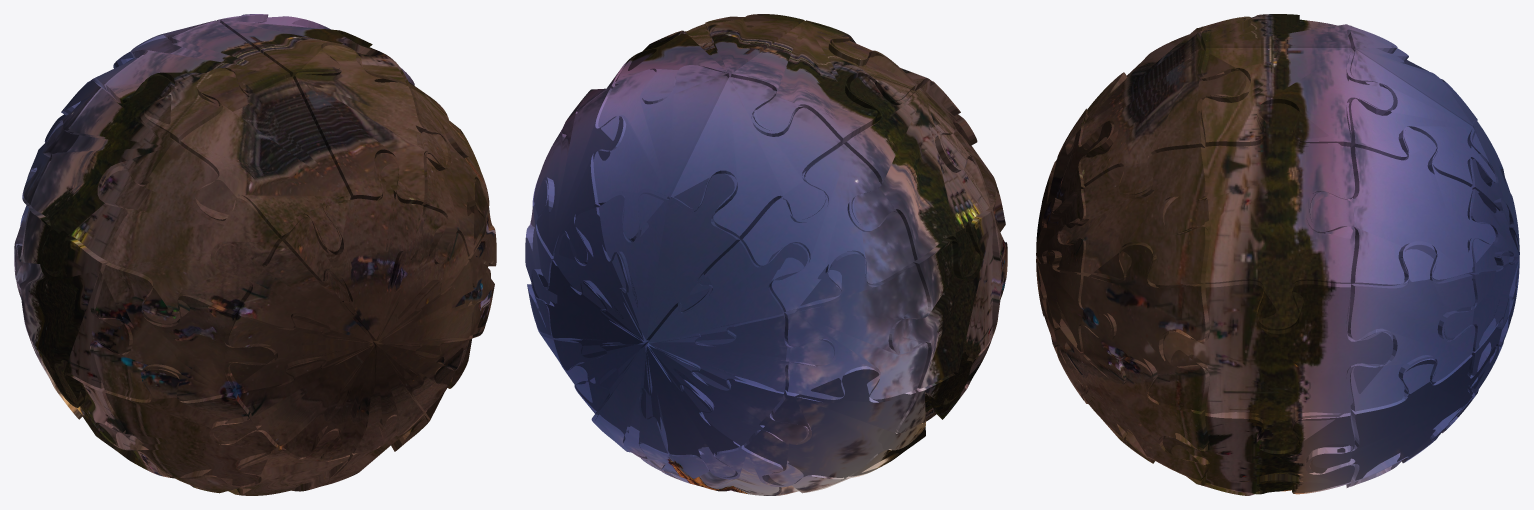
The model's file is easy-puzzle-v14.fbx.
3 views of the same model, side by side, from view 1: azimuth 30°, elevation 25°; view 2: azimuth 150°, elevation 25°; view 3: azimuth 270°, elevation 25° (orthographic).
Visible parts, largest first — view 1: Street View 360 1.013, Street View 360 1.045, Street View 360 1.018, Street View 360 1.042, Street View 360 1.046, Street View 360 1.044, Street View 360 1.035, Street View 360 1.047, Street View 360 1.017, Street View 360 1.043, Street View 360 1.005, Street View 360 1.048 (+8 smaller); view 2: Street View 360 1.025, Street View 360 1.027, Street View 360 1.042, Street View 360 1.028, Street View 360 1.016, Street View 360 1.006, Street View 360 1.035, Street View 360 1.029, Street View 360 1.017, Street View 360 1.034, Street View 360 1.005, Street View 360 1.030 (+7 smaller); view 3: Street View 360 1.041, Street View 360 1.040, Street View 360 1.034, Street View 360 1.043, Street View 360 1.051, Street View 360 1.005, Street View 360 1.033, Street View 360 1.044, Street View 360 1.039, Street View 360 1.013, Street View 360 1.025, Street View 360 1.050 (+7 smaller).
Part boxes in pixels (x1,y1,x2,y2): Street View 360 1.013: (213, 153, 489, 459); Street View 360 1.045: (100, 143, 280, 324); Street View 360 1.018: (180, 70, 350, 254); Street View 360 1.042: (31, 76, 178, 276); Street View 360 1.046: (93, 262, 276, 400); Street View 360 1.044: (293, 45, 448, 205); Street View 360 1.035: (15, 209, 132, 404); Street View 360 1.047: (98, 369, 277, 485); Street View 360 1.017: (106, 20, 290, 143); Street View 360 1.043: (410, 88, 488, 264); Street View 360 1.005: (220, 14, 406, 84); Street View 360 1.048: (177, 428, 357, 495); Street View 360 1.025: (532, 173, 834, 477); Street View 360 1.027: (741, 144, 914, 312); Street View 360 1.042: (843, 76, 990, 276); Street View 360 1.028: (784, 251, 928, 399); Street View 360 1.016: (671, 76, 841, 239); Street View 360 1.006: (593, 68, 728, 242); Street View 360 1.035: (888, 209, 1006, 404); Street View 360 1.029: (743, 366, 922, 485); Street View 360 1.017: (731, 21, 915, 143); Street View 360 1.034: (533, 88, 626, 264); Street View 360 1.005: (615, 14, 801, 104); Street View 360 1.030: (664, 445, 843, 495); Street View 360 1.041: (1162, 103, 1355, 330); Street View 360 1.040: (1163, 280, 1393, 450); Street View 360 1.034: (1309, 129, 1495, 285); Street View 360 1.043: (1060, 147, 1209, 285); Street View 360 1.051: (1081, 242, 1209, 411); Street View 360 1.005: (1201, 48, 1393, 147); Street View 360 1.033: (1347, 244, 1475, 411); Street View 360 1.044: (1081, 49, 1250, 194); Street View 360 1.039: (1162, 412, 1355, 493); Street View 360 1.013: (1036, 116, 1114, 400); Street View 360 1.025: (1444, 82, 1519, 422); Street View 360 1.050: (1060, 343, 1209, 480).
Size of the model in its own units: 196 by 193 by 197.
